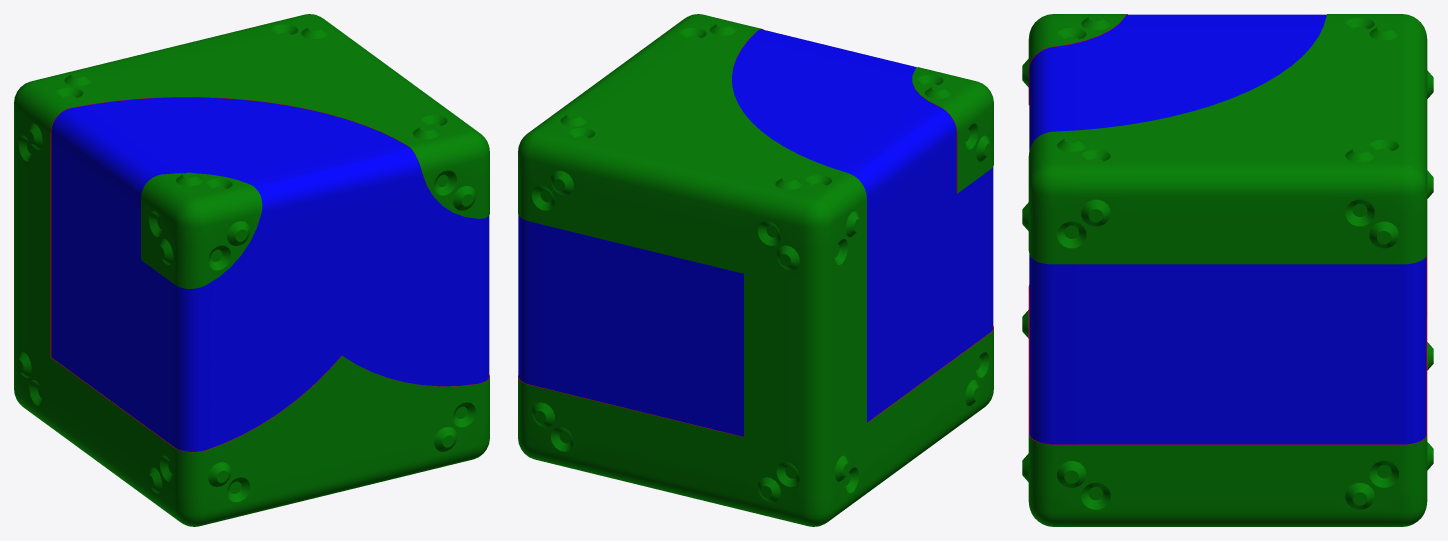
3 renders of one model, left to right at view 1: azimuth 30°, elevation 25°; view 2: azimuth 150°, elevation 25°; view 3: azimuth 270°, elevation 25°, orthographic. The views are drawn at different scales.
Visible parts, largest first — view 1: CubeGlass 001, CubeBodyOut 001, CubeBodyIn 001; view 2: CubeBodyOut 001, CubeGlass 001, CubeBodyIn 001; view 3: CubeBodyOut 001, CubeGlass 001, CubeBodyIn 001.
Boxes of the visible parts, <box> form: CubeGlass 001: <box>51,97,489,451</box>; CubeBodyOut 001: <box>14,14,489,526</box>; CubeBodyIn 001: <box>50,97,489,452</box>; CubeBodyOut 001: <box>518,14,993,526</box>; CubeGlass 001: <box>518,29,993,436</box>; CubeBodyIn 001: <box>518,29,993,436</box>; CubeBodyOut 001: <box>1022,14,1433,526</box>; CubeGlass 001: <box>1029,14,1426,444</box>; CubeBodyIn 001: <box>1028,14,1427,444</box>.
Bounding box in the file's own units: 413 × 413 × 413.
